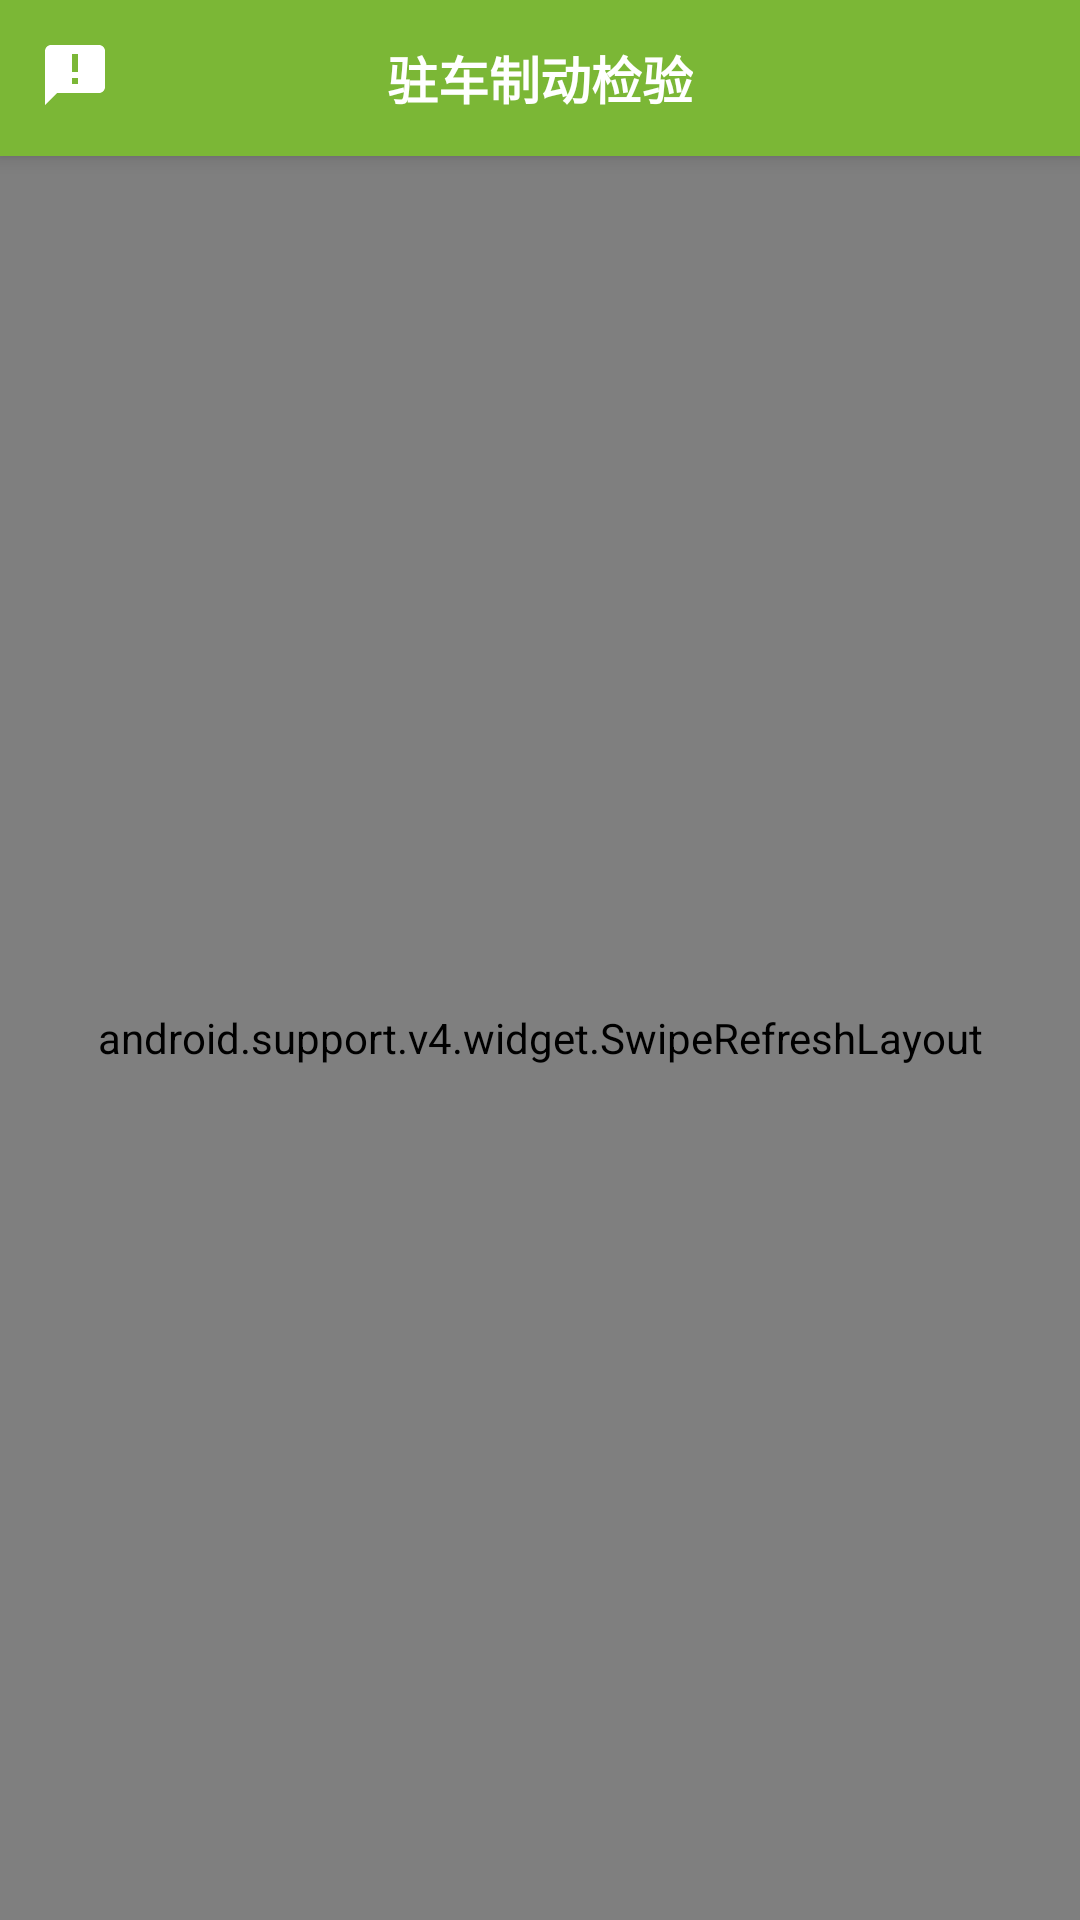

Locate icon controls on the screen. Image size 1080×1920, boxes as (x1, y1, x2, y2).
announcement: (45, 45, 105, 105)
